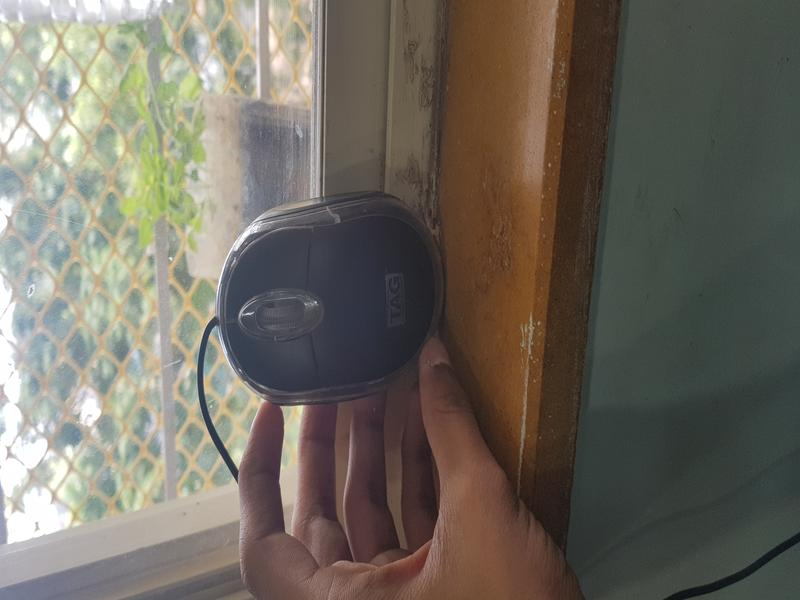mouse: (190, 177, 489, 414)
